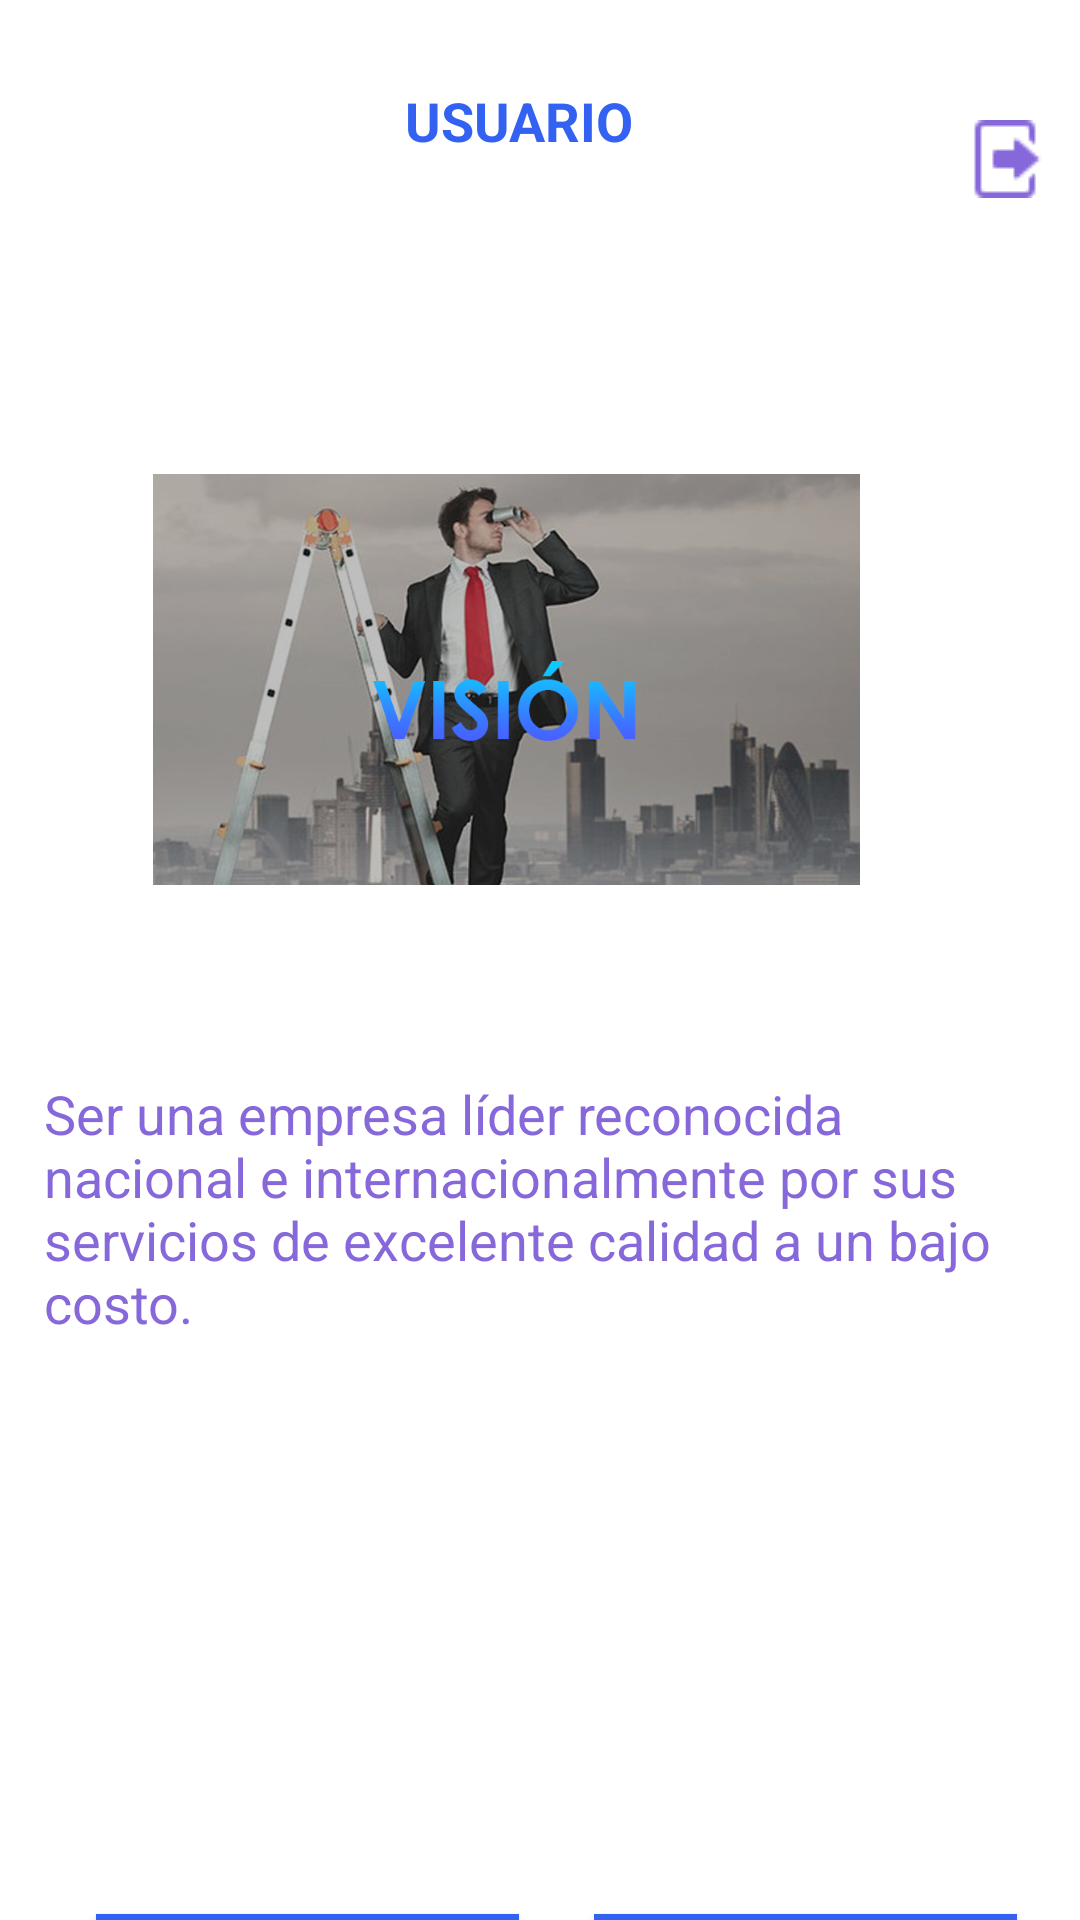

Point at icon controls on the screen. Image size 1080w x 1920h, points as (x=x, y=y).
exit: (x=1006, y=159)
